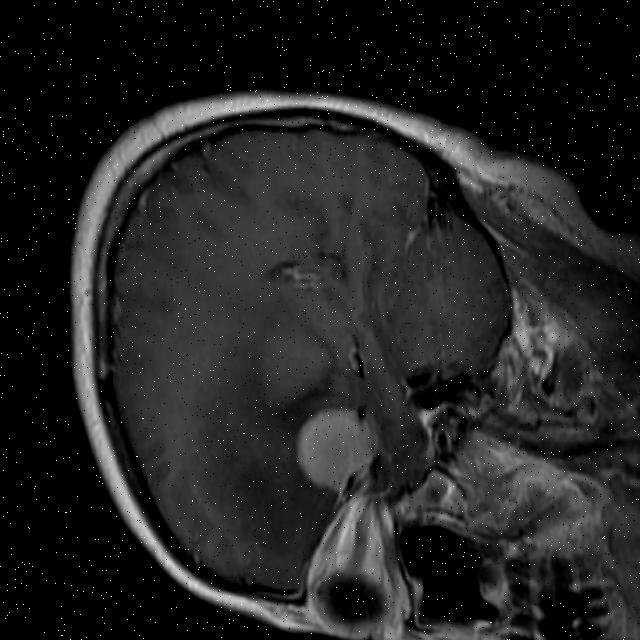Meningioma: (285, 398, 386, 496)
